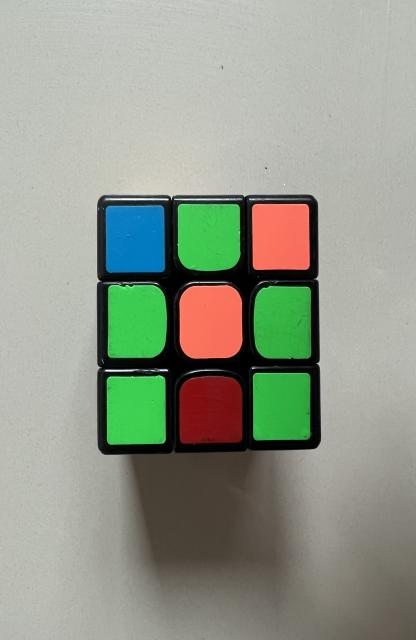Blue: (106, 205, 165, 272)
Green: (107, 285, 167, 358), (106, 375, 166, 445), (254, 286, 311, 359), (178, 204, 240, 271), (252, 372, 311, 441)
Orange: (180, 285, 243, 359), (252, 204, 310, 270)
Red: (179, 376, 243, 444)
